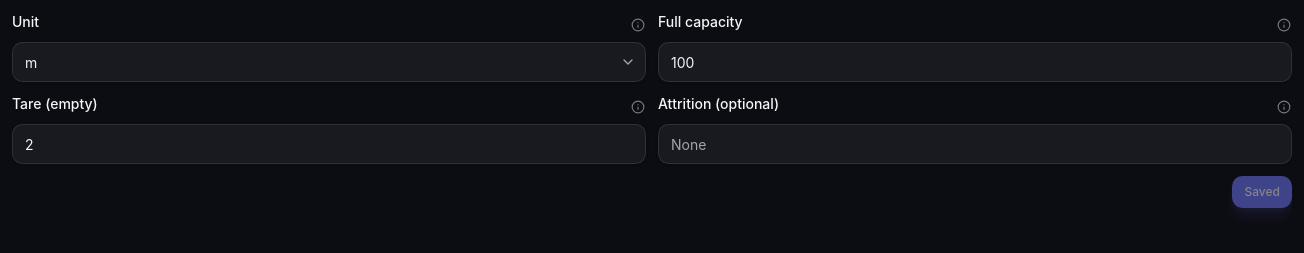
it: GaugeConfigEditor (issue #69) › refuses to save a capacity of zero or below
Replace the text in the number field with test id "gauge-config-capacity" with "0" at (975, 62), box [658,42,1292,82]
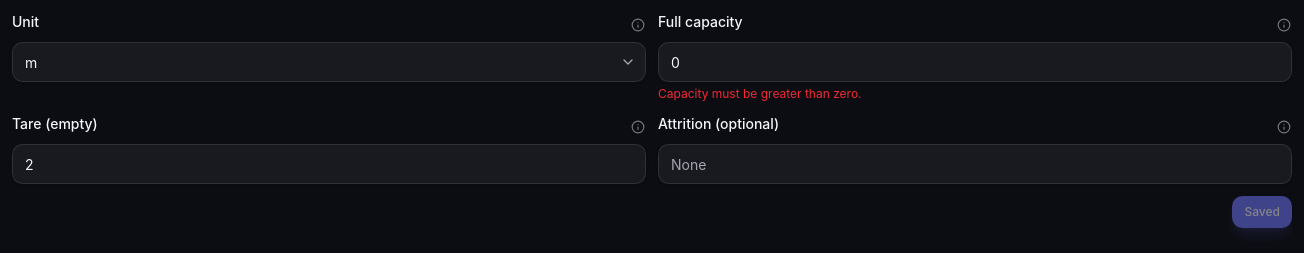
Expected: the button with test id "gauge-config-save" is disabled, [1232,196,1292,228]
Now the text "Capacity must be greater than zero." is shown, box [658,86,862,101]
